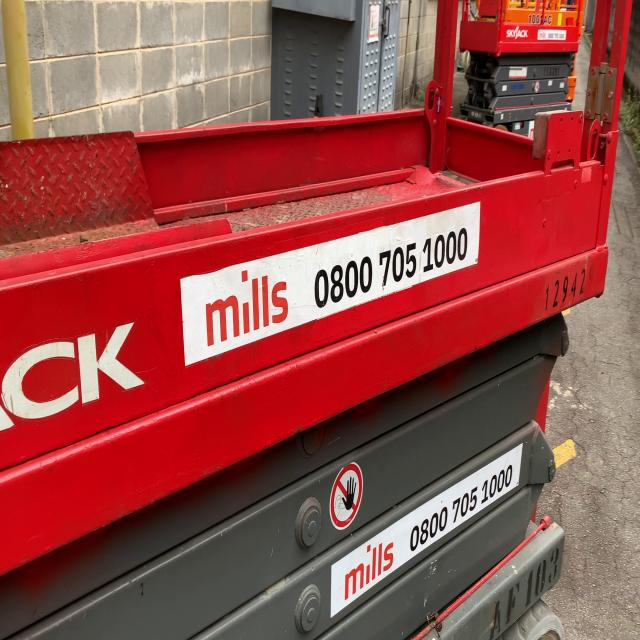Adesivo Longo: (179, 198, 483, 372), (329, 442, 524, 622)
